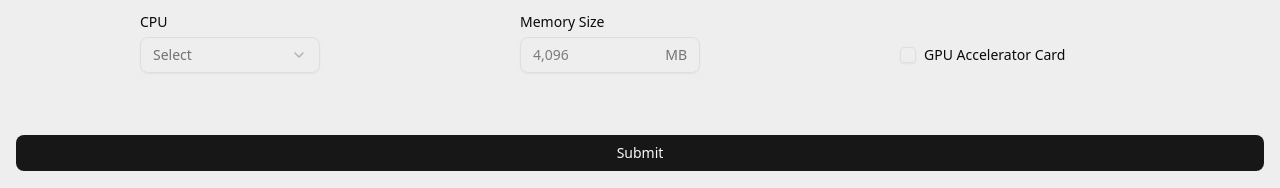
Test: Server composer form › Invalid memory size format
Type "1024" into the field labelled "Memory Size".
click(595, 55); type("1024")  # box left=533, top=45, right=657, bottom=65
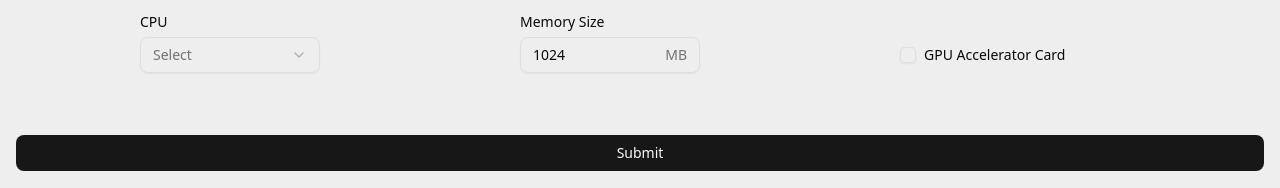
Click the button "Submit".
click(640, 153)  # box left=16, top=135, right=1264, bottom=171
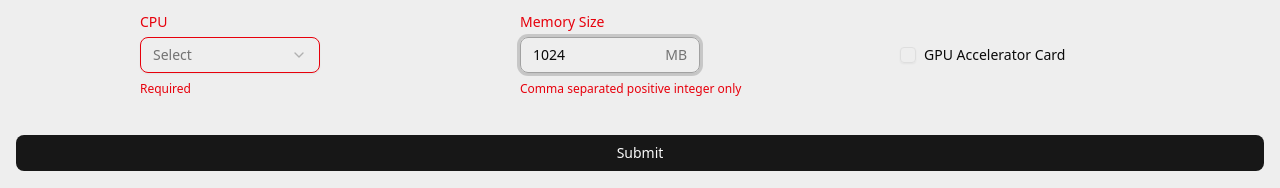
Expected: the text "Comma separated positive integer only" is shown, left=520, top=81, right=760, bottom=97
